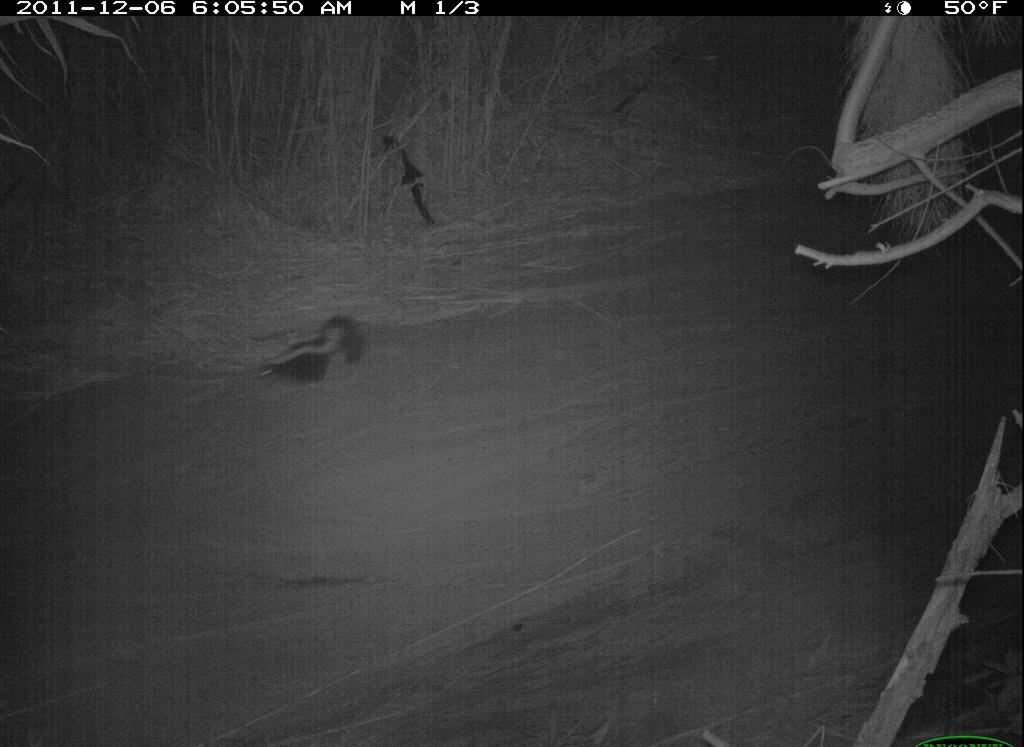skunk: (248, 305, 378, 396)
